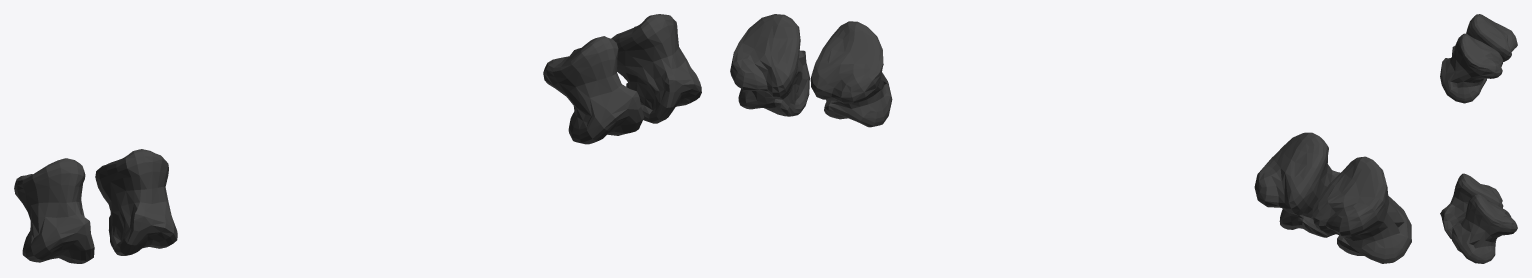
3 views of the same model, side by side, from view 1: azimuth 30°, elevation 25°; view 2: azimuth 150°, elevation 25°; view 3: azimuth 270°, elevation 25° (orthographic). The views are drawn at different scales.
Visible parts, largest first — view 1: b_HL_P2_L_LO; view 2: b_HL_P2_L_LO; view 3: b_HL_P2_L_LO.
Part boxes in pixels (x1=…): b_HL_P2_L_LO: x1=14, y1=14, x2=701, y2=263; b_HL_P2_L_LO: x1=730, y1=14, x2=1411, y2=263; b_HL_P2_L_LO: x1=1440, y1=14, x2=1517, y2=263.
Size of the model in its own units: 0.00388 by 0.000563 by 0.000629.
Materials: 1 (1 with a texture image).
